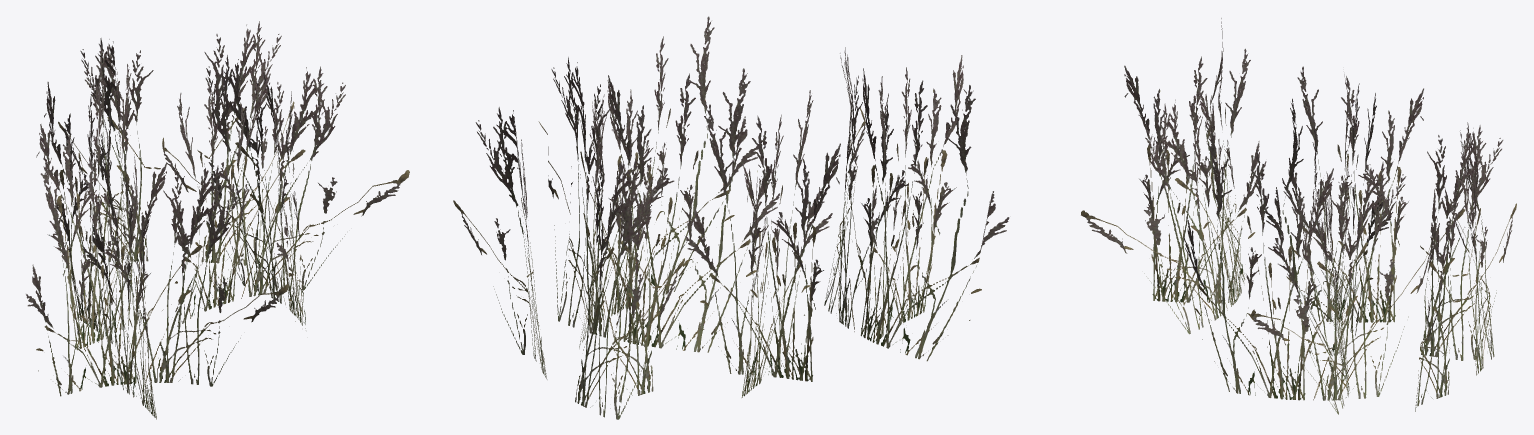
The model's file is meadow_reed.glb.
3 renders of one model, left to right at view 1: azimuth 30°, elevation 25°; view 2: azimuth 150°, elevation 25°; view 3: azimuth 270°, elevation 25°, orthographic. The views are drawn at different scales.
Parts seen in each view (by area): view 1: cluster_0; view 2: cluster_0; view 3: cluster_0.
Boxes of the visible parts, <box> form: cluster_0: <box>26,21,409,419</box>; cluster_0: <box>453,16,1009,419</box>; cluster_0: <box>1081,18,1516,414</box>.
Bounding box in the file's own units: 3.68 × 2.09 × 3.43.
Materials: 1 (1 with a texture image).
